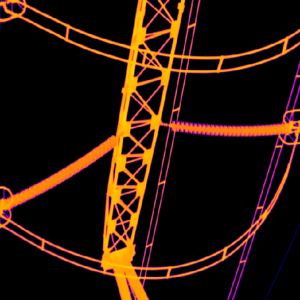insulator: (7, 134, 117, 208), (169, 115, 290, 137)
